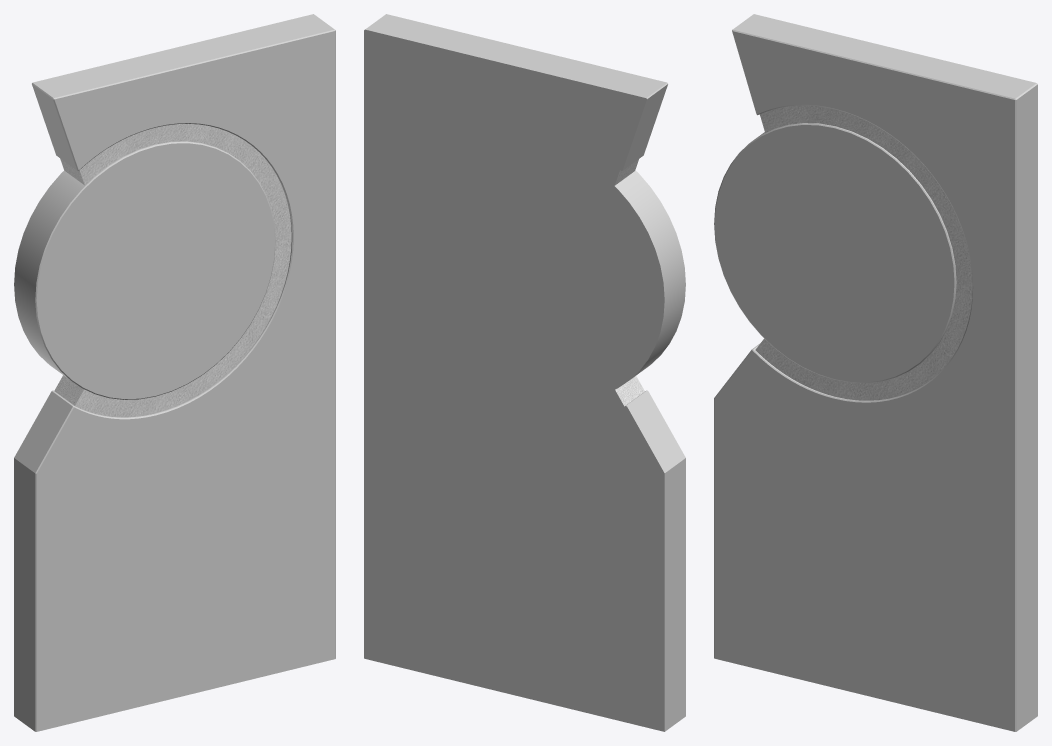
The model's file is cn1e79360ce1_tkf.glb.
3 renders of one model, left to right at view 1: azimuth 30°, elevation 25°; view 2: azimuth 150°, elevation 25°; view 3: azimuth 330°, elevation 25°, orthographic.
Visible parts, largest first — view 1: Pam-v-211, Pam-v-211_2_notexture; view 2: Pam-v-211, Pam-v-211_2_notexture; view 3: Pam-v-211, Pam-v-211_2_notexture.
Part boxes in pixels (box(x1,y1,x2,y2)): Pam-v-211: box(14, 14, 335, 731); Pam-v-211_2_notexture: box(54, 123, 291, 417); Pam-v-211: box(364, 14, 685, 731); Pam-v-211_2_notexture: box(614, 159, 644, 406); Pam-v-211: box(714, 14, 1037, 731); Pam-v-211_2_notexture: box(755, 105, 972, 400).
Bounding box in the file's own units: 0.4 × 0.8 × 0.05.
1 material, 1 textured.
